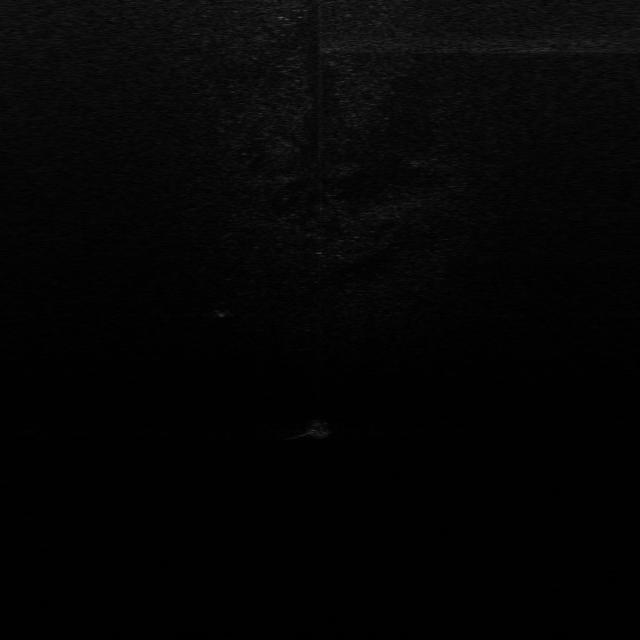ball: (306, 420, 332, 439)
circle cage: (212, 301, 233, 317)
